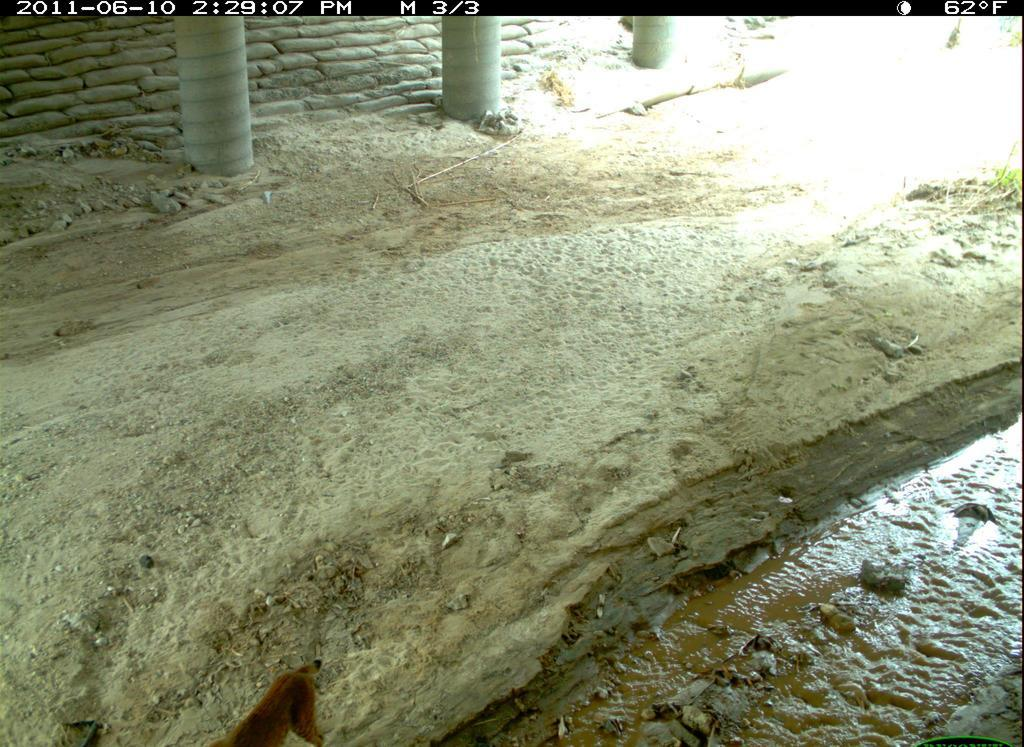bobcat: (205, 653, 331, 747)
